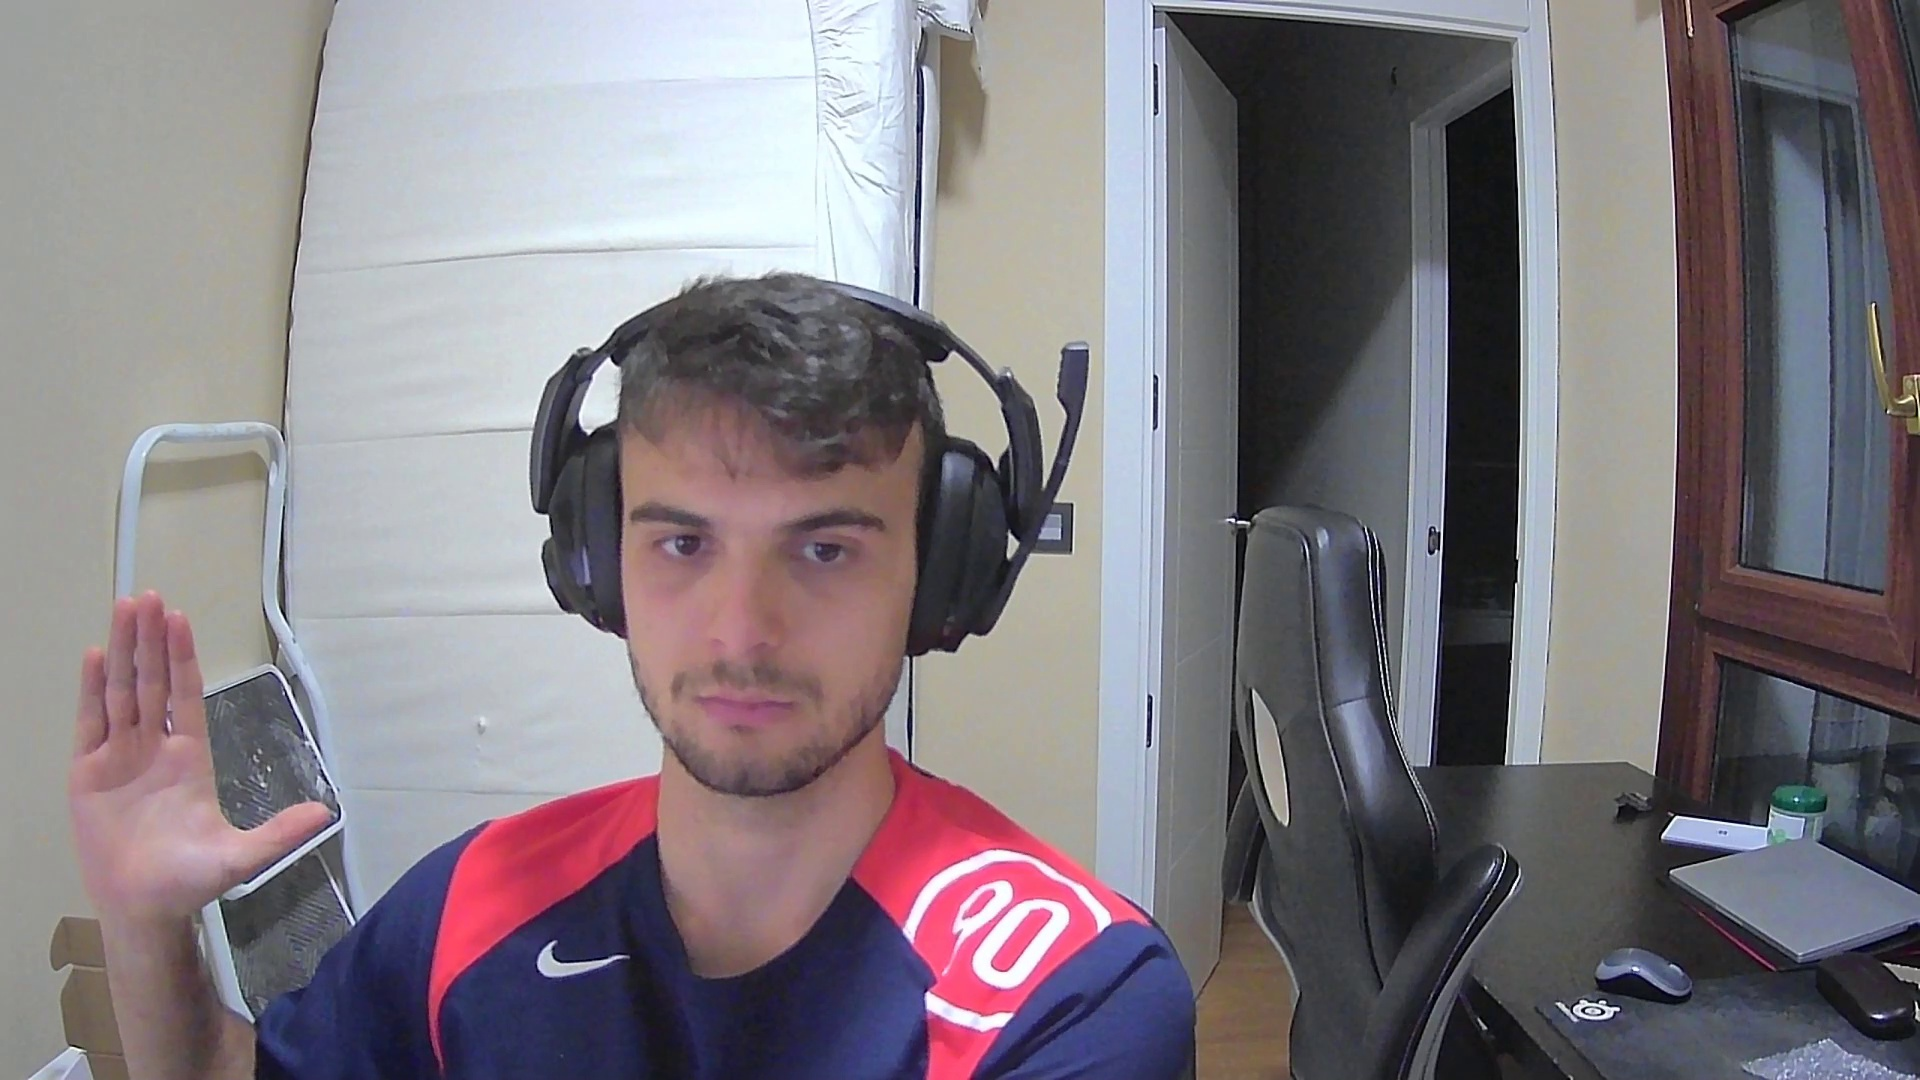Palm: (69, 585, 331, 907)
